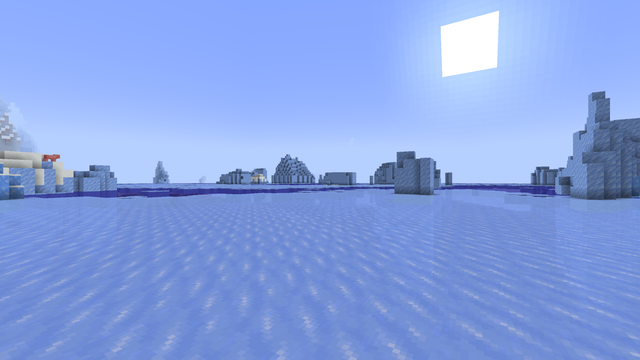cochons: (44, 154, 56, 159)
